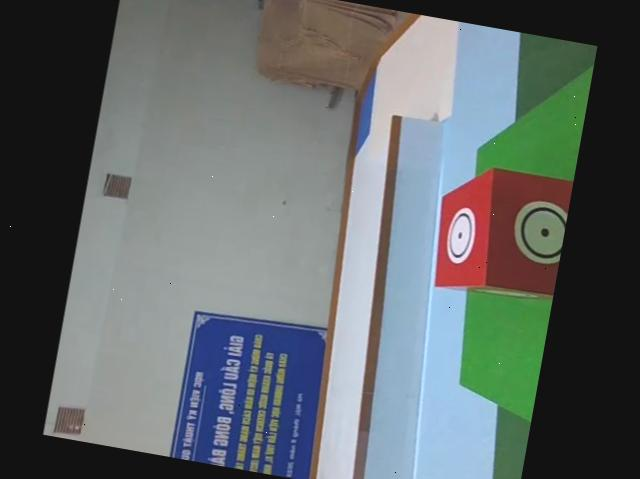R2 Real: (426, 154, 575, 305)
